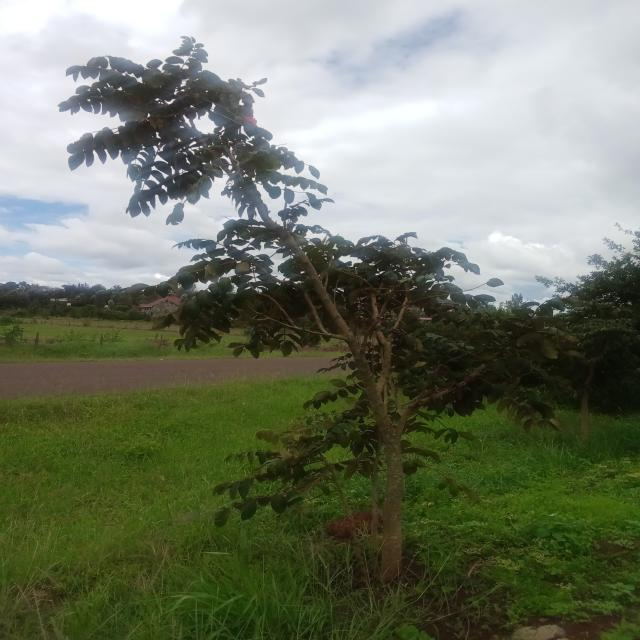Polyscias Kikuyensis: (49, 36, 564, 630)
